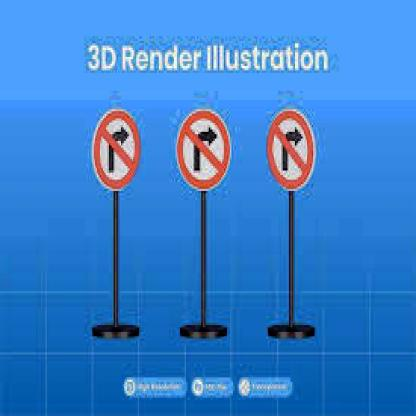No right turn: (170, 104, 233, 195), (266, 103, 316, 193), (91, 104, 140, 195)
